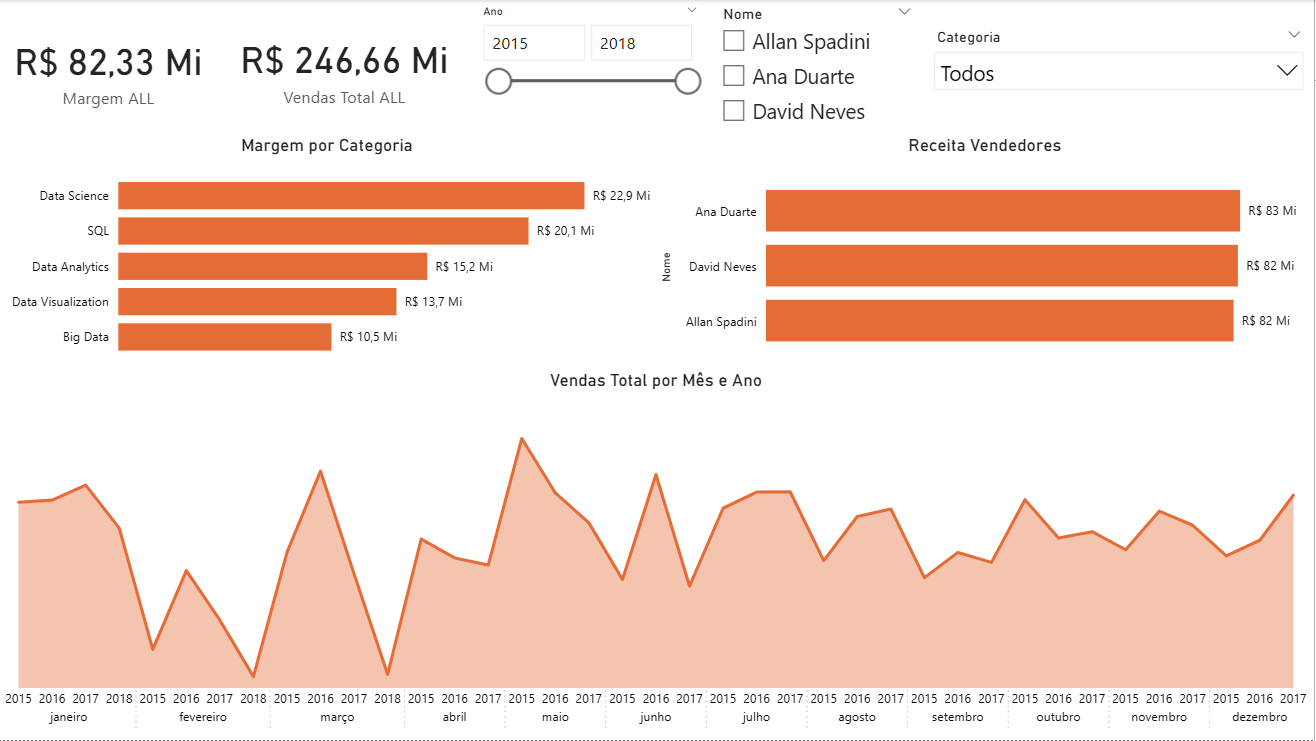

What the dashboard file says about the page in this screenshot:
{"tool":"powerbi","page":{"name":"Dashboard Final","canvas":[1280,720],"ordinal":7},"visuals":[{"type":"barChart","fields":{"Category":["Produtos.Categoria"],"Y":["Medidas.Margem"]},"box":[0,130.9,640,229.4],"z":0},{"type":"barChart","title":"Receita Vendedores","fields":{"Category":["Vendedores.Nome"],"Y":["Vendedores.Receita Vendedores"]},"box":[640,130.9,640,229.4],"z":1},{"type":"areaChart","fields":{"Category":["Tabela Calendário.Date.Variation.Hierarquia de datas.Mês","Tabela Calendário.Ano"],"Y":["Medidas.Vendas Total"]},"box":[0,360.3,1280,359.3],"z":2},{"type":"card","fields":{"Values":["Medidas.Vendas Total ALL"]},"box":[214.7,0,244.1,130.9],"z":3},{"type":"card","fields":{"Values":["Medidas.Margem ALL"]},"box":[0,0,214.7,134.1],"z":4},{"type":"slicer","fields":{"Values":["Tabela Calendário.Ano"]},"box":[458.8,0,233.6,130.9],"z":5},{"type":"slicer","fields":{"Values":["Vendedores.Nome"]},"box":[692.4,0,208.4,130.9],"z":6},{"type":"slicer","fields":{"Values":["Produtos.Categoria"]},"box":[900.8,22,379.2,86.9],"z":7}]}

Visuals, with their boxes in screenshot pixels (x1, y1, x2, y2), scaled from the page's 1280x720 canvas onto the 1316x741 screenshot:
barChart - Produtos.Categoria x Medidas.Margem: x1=0 y1=135 x2=658 y2=371
"Receita Vendedores" barChart: x1=658 y1=135 x2=1315 y2=371
areaChart - Tabela Calendário.Date.Variation.Hierarquia de datas.Mês x Tabela Calendário.Ano: x1=0 y1=371 x2=1315 y2=740
card - Medidas.Vendas Total ALL: x1=221 y1=0 x2=472 y2=135
card - Medidas.Margem ALL: x1=0 y1=0 x2=221 y2=138
slicer - Tabela Calendário.Ano: x1=472 y1=0 x2=712 y2=135
slicer - Vendedores.Nome: x1=712 y1=0 x2=926 y2=135
slicer - Produtos.Categoria: x1=926 y1=23 x2=1315 y2=112
